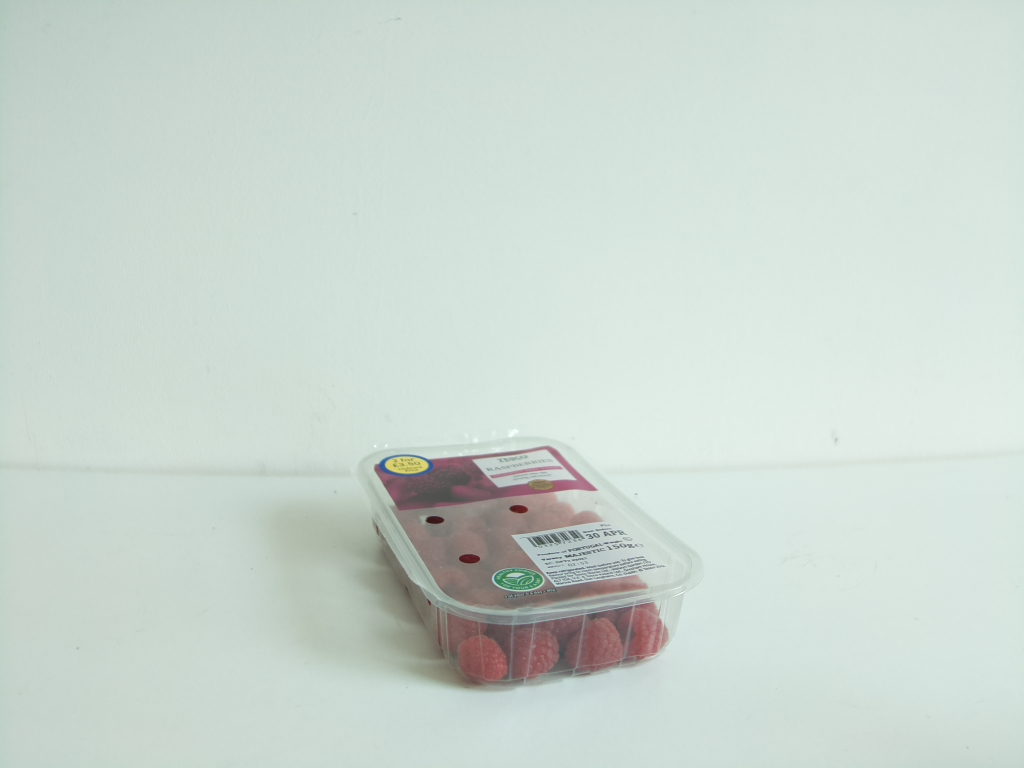soft-fruit: (354, 426, 705, 691)
